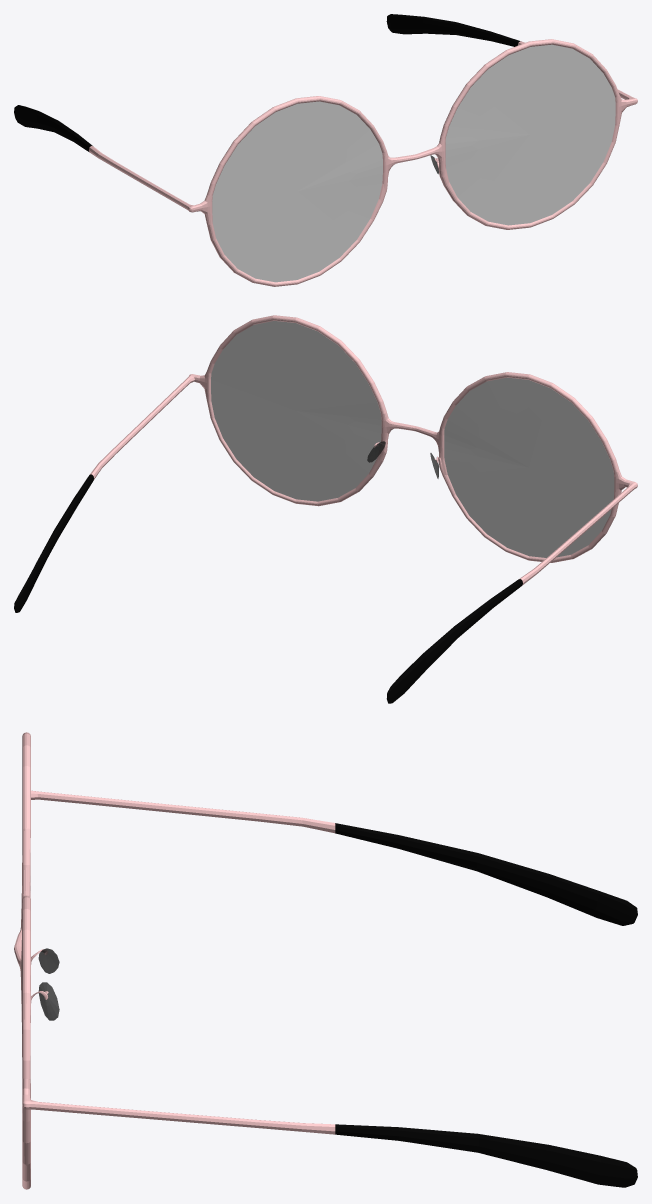
File: marumegane_Pinkgold.fbx
3 renders of one model, top to bottom at view 1: azimuth 30°, elevation 25°; view 2: azimuth 150°, elevation 25°; view 3: azimuth 270°, elevation 25°, orthographic. The views are drawn at different scales.
Parts seen in each view (by area): view 1: marumegane; view 2: marumegane; view 3: marumegane.
Boxes of the visible parts, left/top/right/bottom form: marumegane: left=14, top=14, right=637, bottom=286; marumegane: left=14, top=315, right=637, bottom=703; marumegane: left=14, top=732, right=637, bottom=1189.
Size of the model in its own units: 80.75 by 31.94 by 67.57.
